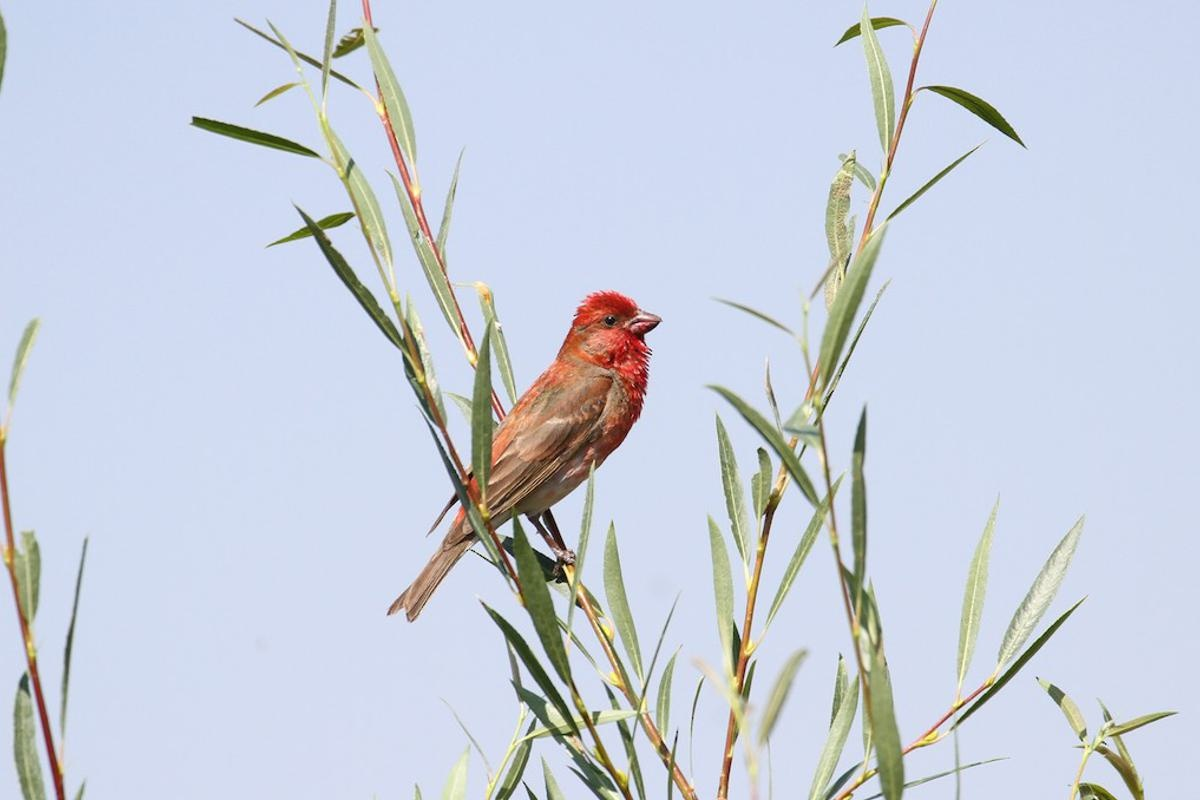rosefinch: (378, 262, 700, 598)
